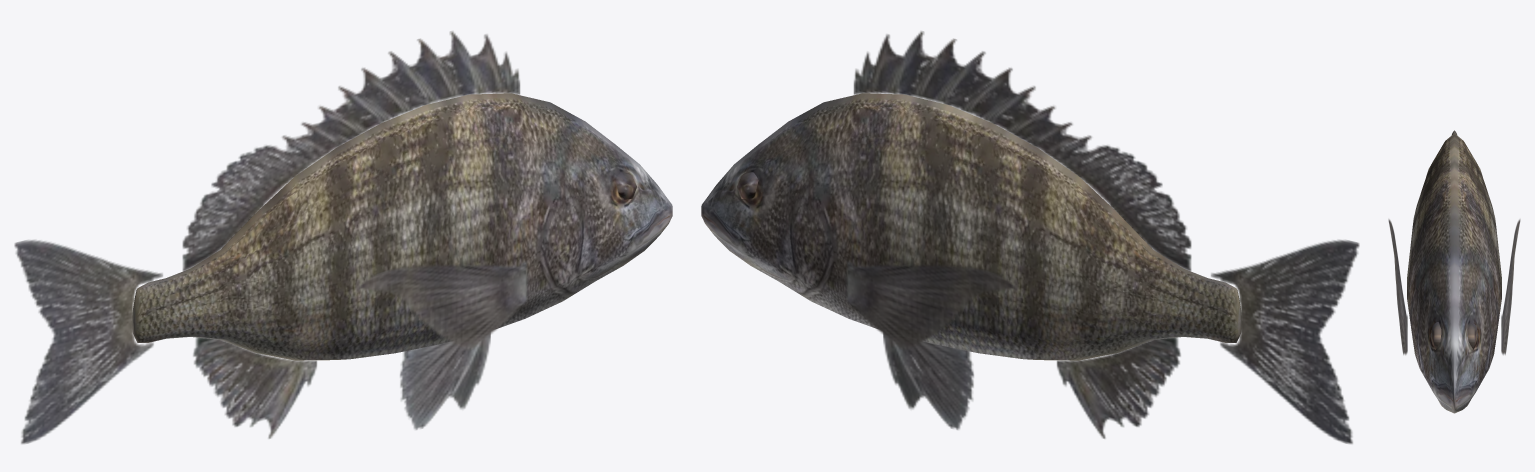
File: kurodai_lo.glb
3 views of the same model, side by side, from view 1: azimuth 30°, elevation 25°; view 2: azimuth 150°, elevation 25°; view 3: azimuth 270°, elevation 25° (orthographic). The views are drawn at different scales.
Parts seen in each view (by area): view 1: kurodai_body; view 2: kurodai_body; view 3: kurodai_body.
Boxes of the visible parts, left/top/right/bottom form: kurodai_body: left=14, top=31, right=672, bottom=443; kurodai_body: left=701, top=31, right=1359, bottom=443; kurodai_body: left=1388, top=130, right=1520, bottom=413.
Size of the model in its own units: 0.4006 by 0.2273 by 0.0814.
Materials: 1 (1 with a texture image).
